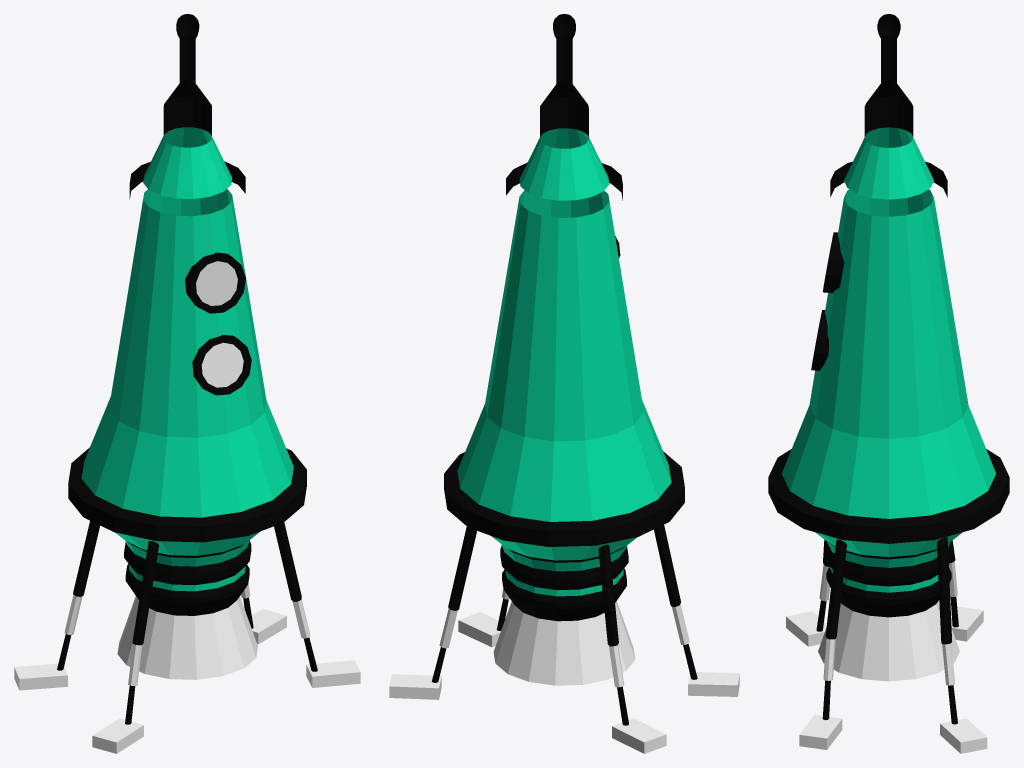
The model's file is nau.fbx.
3 renders of one model, left to right at view 1: azimuth 30°, elevation 25°; view 2: azimuth 150°, elevation 25°; view 3: azimuth 270°, elevation 25°, orthographic.
Parts seen in each view (by area): view 1: Cylinder, Cylinder.002, Cylinder.001; view 2: Cylinder; view 3: Cylinder, Cylinder.002, Cylinder.001.
Boxes of the visible parts, <box> form: Cylinder: <box>14,14,360,753</box>; Cylinder.002: <box>185,252,245,313</box>; Cylinder.001: <box>192,335,251,395</box>; Cylinder: <box>389,14,739,753</box>; Cylinder: <box>768,14,1009,753</box>; Cylinder.002: <box>823,232,844,293</box>; Cylinder.001: <box>811,310,828,370</box>.
Size of the model in its own units: 260 by 614 by 200.
